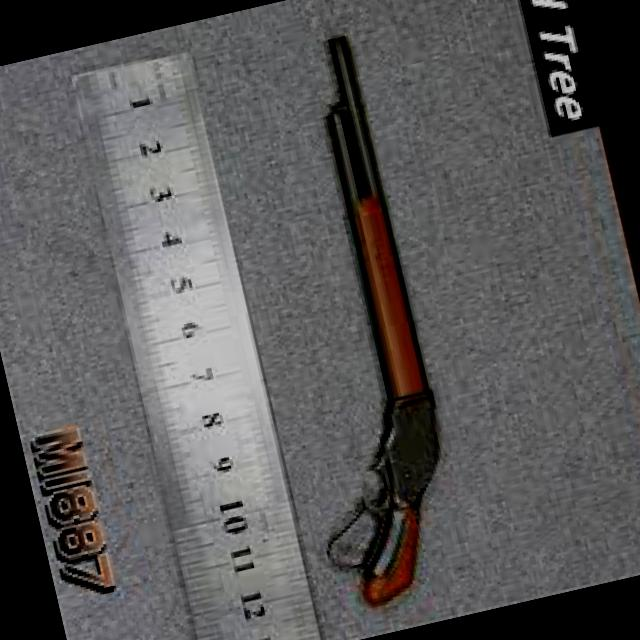long weapon: (210, 18, 498, 636)
